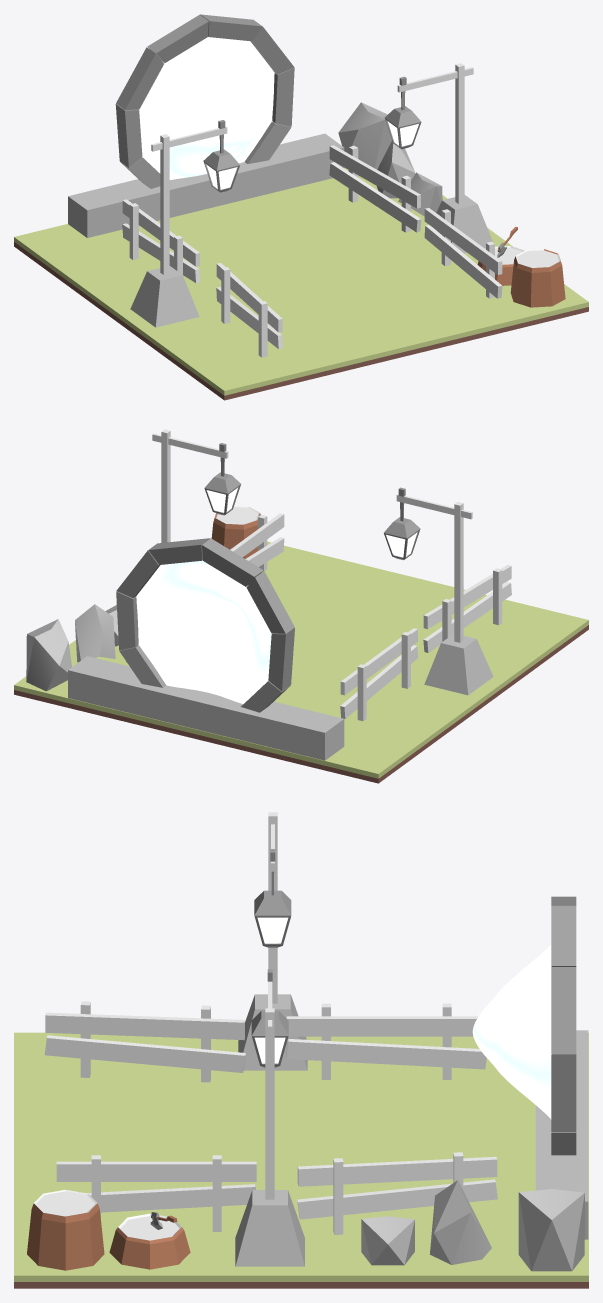
Rendered from threejsjourney.glb.
3 renders of one model, top to bottom at view 1: azimuth 30°, elevation 25°; view 2: azimuth 150°, elevation 25°; view 3: azimuth 270°, elevation 25°, orthographic. The views are drawn at different scales.
Visible parts, largest first — view 1: ground, portalFill, portalBase, portal, fence.003, fence.001, trunk, Plane.013, fence, fence.002, Icosphere, Plane.007 (+9 smaller); view 2: ground, portalFill, portalBase, portal, fence.002, fence, Plane.013, Icosphere, Icosphere.002, fence.001, trunk, Plane.014 (+5 smaller); view 3: ground, fence, fence.002, fence.003, portalFill, fence.001, portal, trunk, Icosphere, Plane.007, portalBase, Icosphere.002 (+8 smaller).
Boxes of the visible parts, <box> form: ground: <box>14,167,588,400</box>; portalFill: <box>139,37,274,179</box>; portalBase: <box>68,133,344,237</box>; portal: <box>115,14,294,188</box>; fence.003: <box>329,145,421,232</box>; fence.001: <box>424,208,502,298</box>; trunk: <box>510,249,565,307</box>; Plane.013: <box>130,266,199,327</box>; fence: <box>216,263,282,357</box>; fence.002: <box>122,199,200,283</box>; Icosphere: <box>338,102,391,169</box>; Plane.007: <box>435,195,492,253</box>; ground: <box>14,541,588,783</box>; portalFill: <box>136,560,271,703</box>; portalBase: <box>68,656,344,760</box>; portal: <box>116,538,294,712</box>; fence.002: <box>340,628,418,721</box>; fence: <box>423,565,511,652</box>; Plane.013: <box>424,633,493,695</box>; Icosphere: <box>26,619,71,691</box>; Icosphere.002: <box>75,604,115,662</box>; fence.001: <box>230,513,284,571</box>; trunk: <box>211,506,260,558</box>; Plane.014: <box>454,502,463,642</box>; ground: <box>14,1032,588,1288</box>; fence: <box>44,1001,245,1082</box>; fence.002: <box>286,1003,486,1079</box>; fence.003: <box>297,1152,497,1234</box>; portalFill: <box>472,944,551,1119</box>; fence.001: <box>56,1155,256,1231</box>; portal: <box>551,896,576,1155</box>; trunk: <box>27,1189,104,1270</box>; Icosphere: <box>518,1189,584,1271</box>; Plane.007: <box>235,1190,304,1266</box>; portalBase: <box>535,1030,588,1239</box>; Icosphere.002: <box>429,1180,491,1264</box>.
Bounding box in the file's own units: 8.02 × 4.01 × 8.
